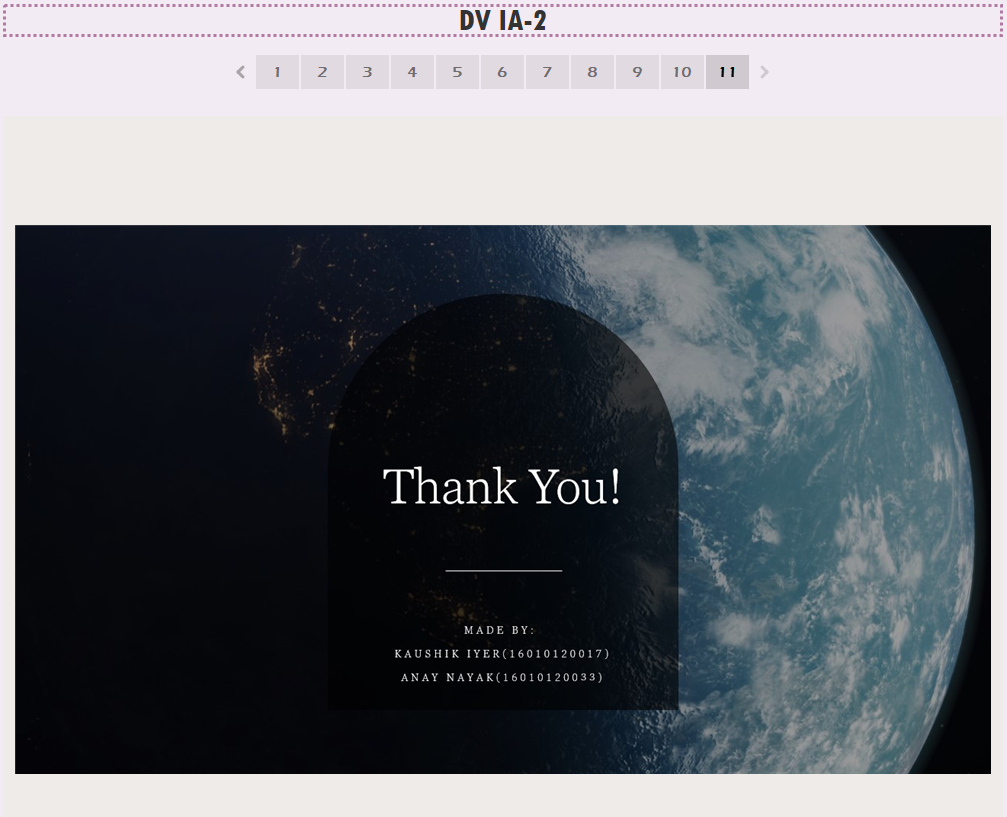

The page's visual inventory and layout, read from the dashboard file:
{"tool":"tableau","page":{"name":"last","canvas":[1000,800],"ordinal":1},"visuals":[{"type":"image","param":"C:/Users/kushl/OneDrive/Desktop/Final.jpg","box":[8,8,984,752]},{"type":"image","box":[8,760,984,32]}]}

Visuals, with their boxes on the page's 1000x800 design canvas (x1, y1, x2, y2). These are canvas units, not pixel positions in the 1007x817 screenshot, which may show the page scaled, cropped or inside an application window:
image: 8 8 992 760
image: 8 760 992 792
